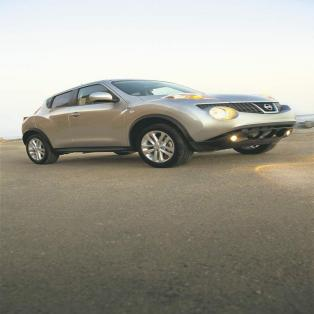Auto: (22, 78, 297, 170)
